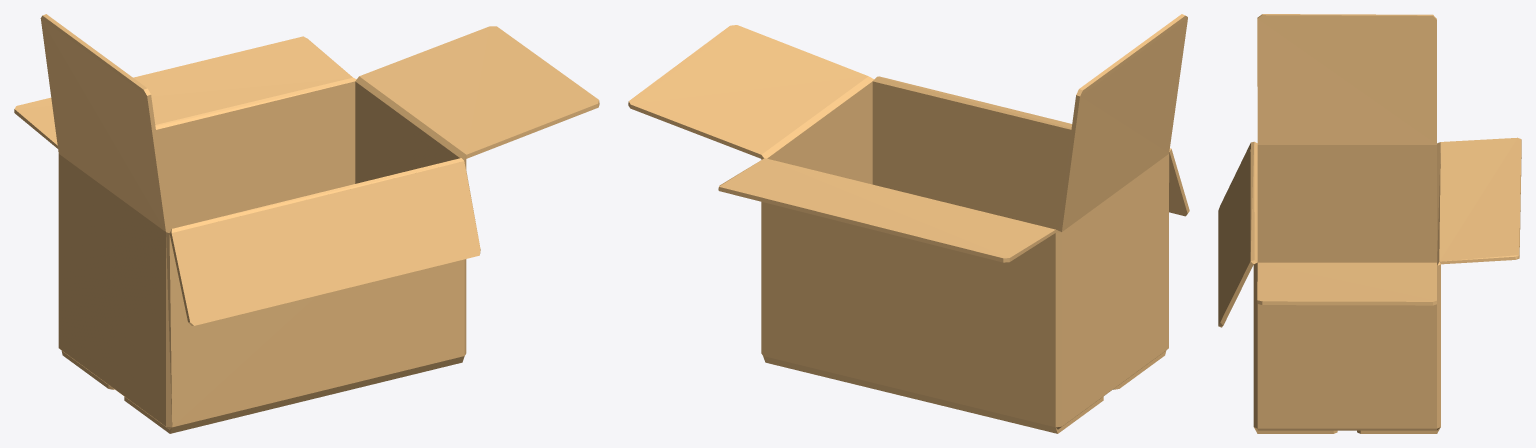
The model's file is cardboard-box-by-involuntary-tsetse-aXUsGm92HEr.glb.
3 renders of one model, left to right at view 1: azimuth 30°, elevation 25°; view 2: azimuth 150°, elevation 25°; view 3: azimuth 270°, elevation 25°, orthographic. The views are drawn at different scales.
Visible parts, largest first — view 1: group1230499291; view 2: group1230499291; view 3: group1230499291.
Part boxes in pixels (left/top/right/bottom): group1230499291: left=14, top=14, right=599, bottom=433; group1230499291: left=628, top=14, right=1189, bottom=433; group1230499291: left=1218, top=14, right=1521, bottom=433.
Size of the model in its own units: 1.15 by 0.8419 by 0.7949.
